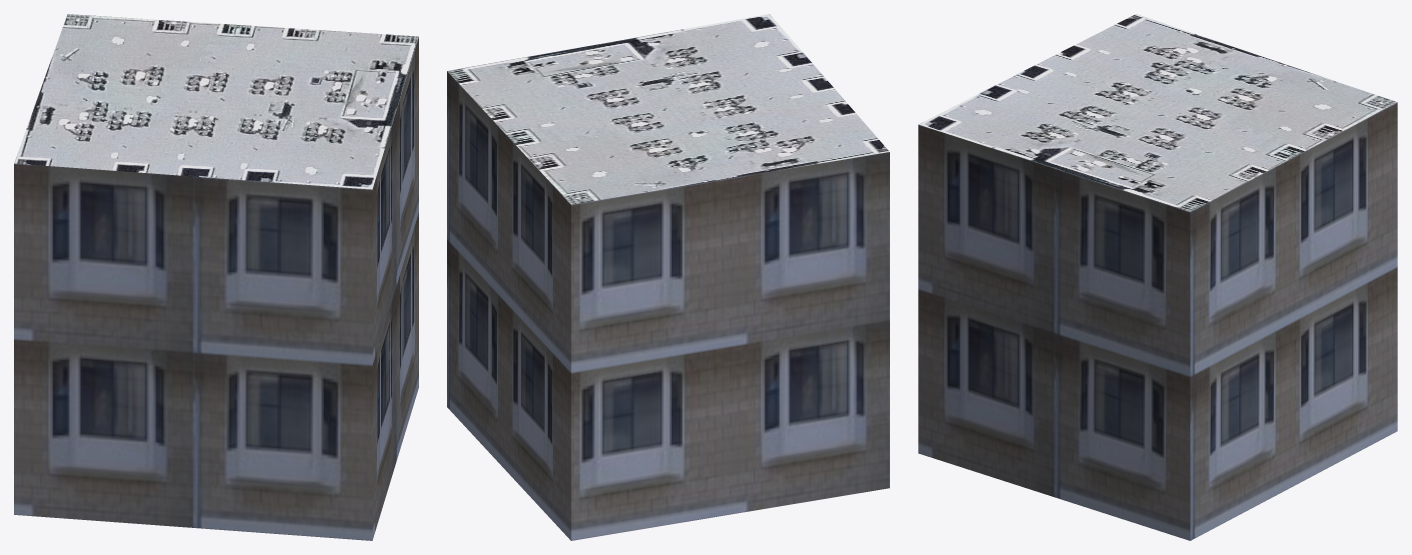
Rendered from ResTex__926.fbx.
3 views of the same model, side by side, from view 1: azimuth 30°, elevation 25°; view 2: azimuth 150°, elevation 25°; view 3: azimuth 270°, elevation 25° (orthographic). The views are drawn at different scales.
Parts seen in each view (by area): view 1: CityEngineMaterial_3_m, CityEngineMaterial_8_m; view 2: CityEngineMaterial_3_m, CityEngineMaterial_8_m; view 3: CityEngineMaterial_3_m, CityEngineMaterial_8_m.
Boxes of the visible parts, x1,y1,x2,y2 form: CityEngineMaterial_3_m: (14,37,418,540); CityEngineMaterial_8_m: (14,14,418,189); CityEngineMaterial_3_m: (447,71,889,540); CityEngineMaterial_8_m: (447,14,889,204); CityEngineMaterial_3_m: (918,102,1397,540); CityEngineMaterial_8_m: (918,14,1397,211).
Size of the model in its own units: 7.75 by 6 by 7.93.
2 materials, 2 textured.
